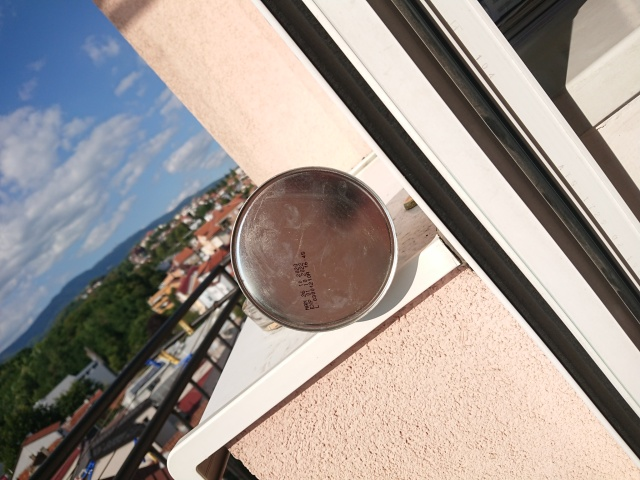Nescafe Classic 225g: (222, 160, 405, 338)
